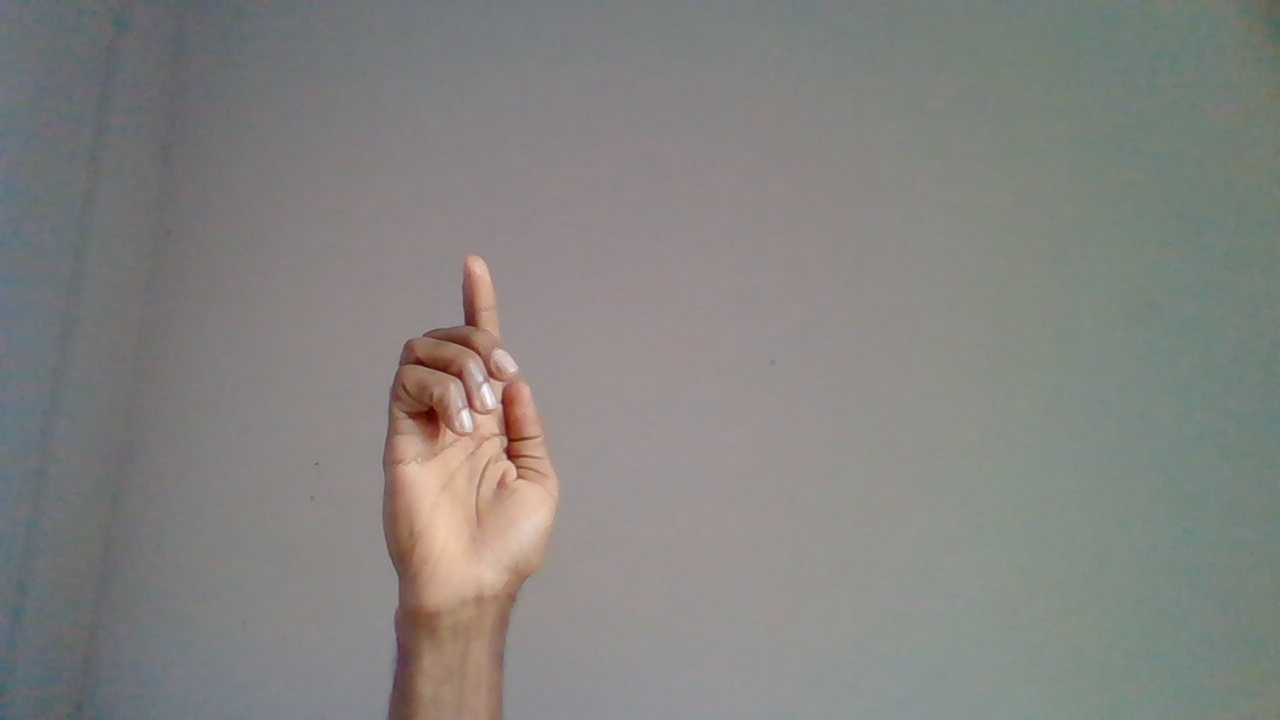qe: (381, 255, 563, 695)
